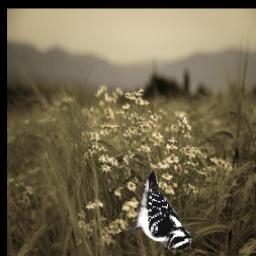Woodpecker: (124, 167, 191, 250)
